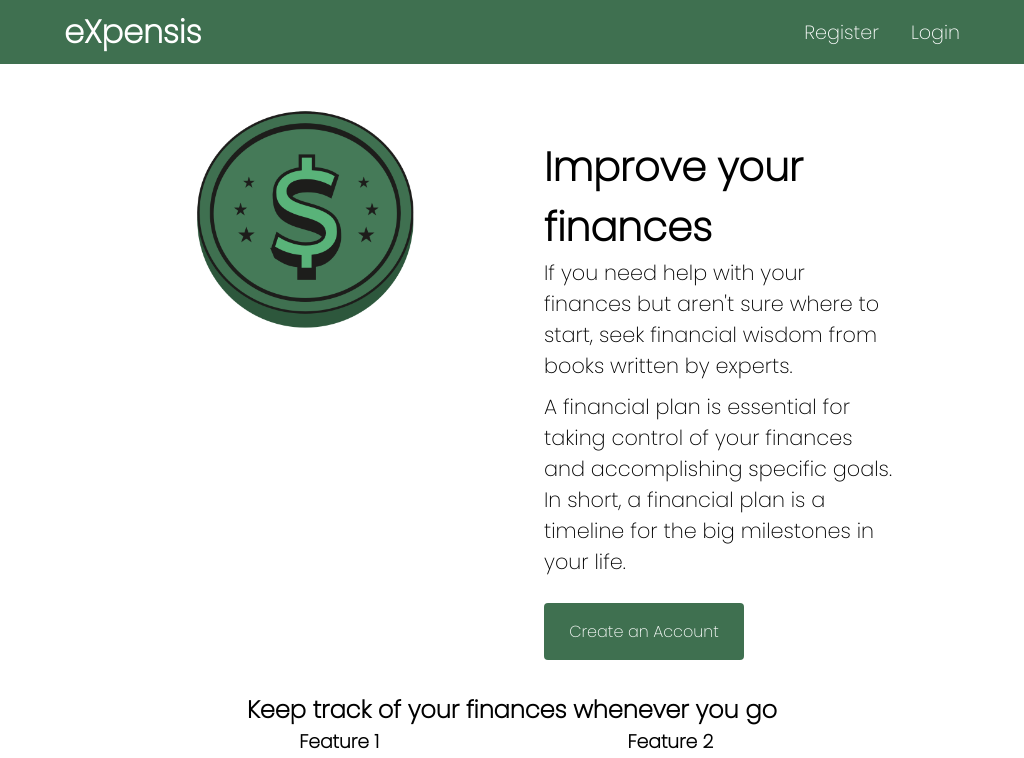
Test case: Home Component › renders "Register" component
The image size is (1024, 758).
Click the link "Create an Account". click: (644, 632)
box: [544, 603, 744, 660]
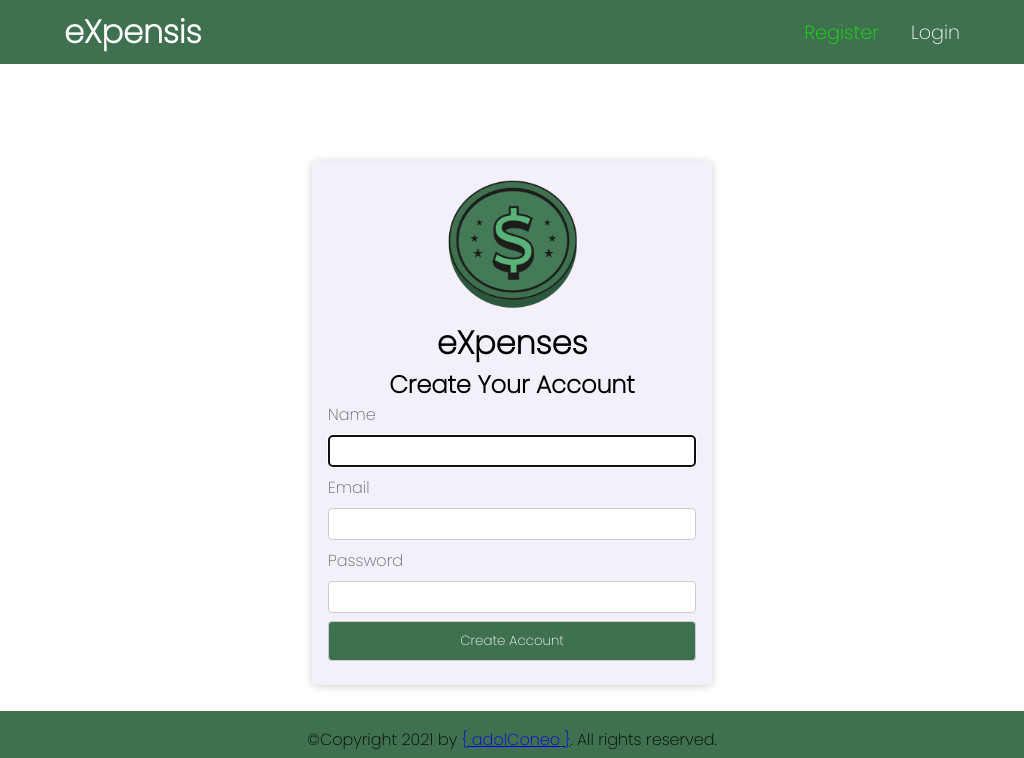
Check: the heading "Create Your Account" is shown, box [389, 368, 635, 401]
